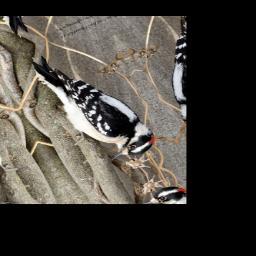Woodpecker: (26, 34, 161, 175)
